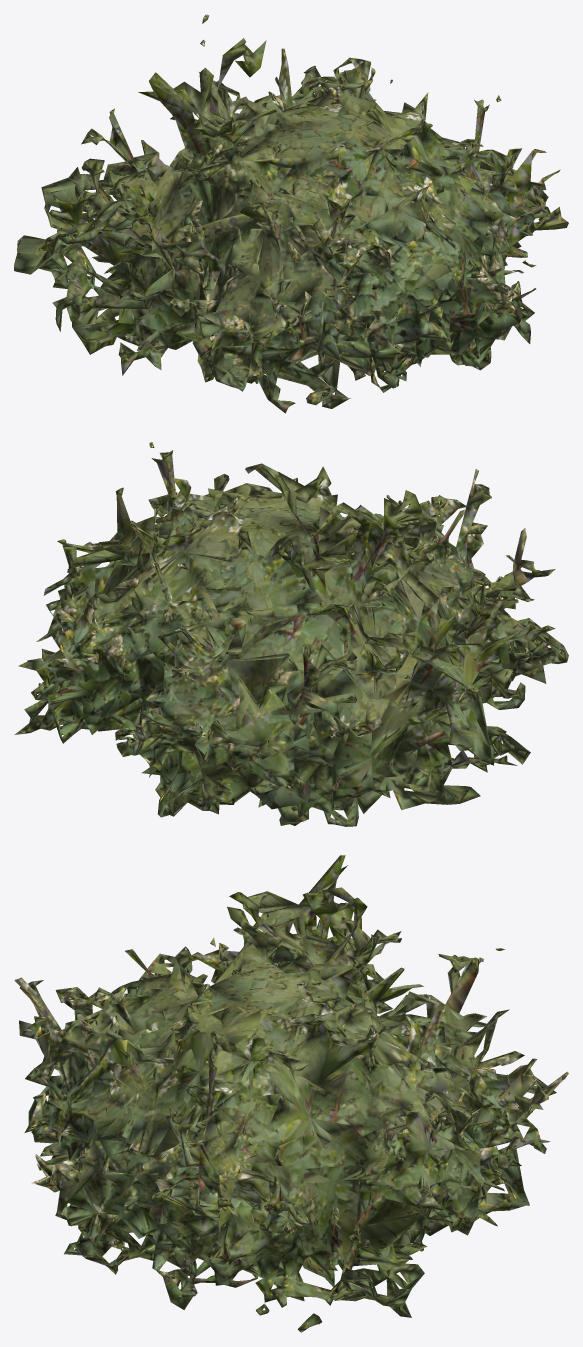
File: Summer_Shrub.fbx
The picture shows the model from 3 angles, top to bottom: view 1: azimuth 30°, elevation 25°; view 2: azimuth 150°, elevation 25°; view 3: azimuth 270°, elevation 25°; orthographic projection. The views are drawn at different scales.
Visible parts, largest first — view 1: Summer_Shrub_LOD0; view 2: Summer_Shrub_LOD0; view 3: Summer_Shrub_LOD0.
Part boxes in pixels (x1,y1,x2,y2): Summer_Shrub_LOD0: (14, 14, 568, 413); Summer_Shrub_LOD0: (14, 442, 568, 826); Summer_Shrub_LOD0: (14, 855, 568, 1332).
Size of what is drawn, in the model's own units: 133 by 80 by 121.
1 material, 1 textured.
